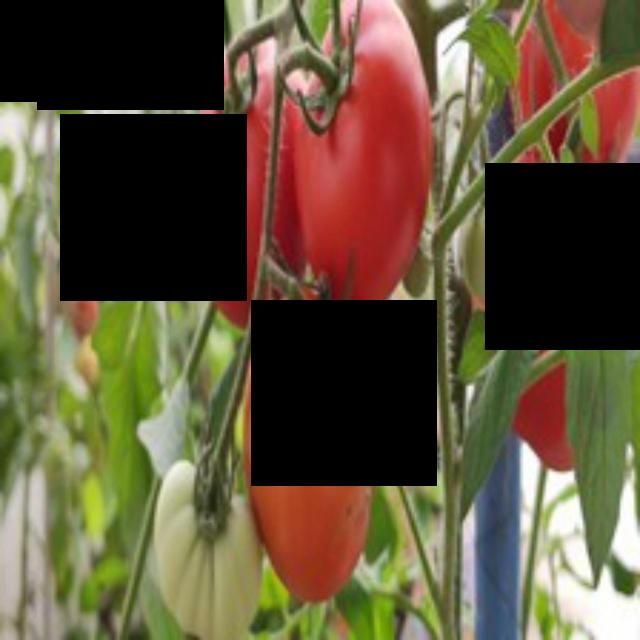tomato: (288, 0, 452, 314), (239, 305, 403, 597)
